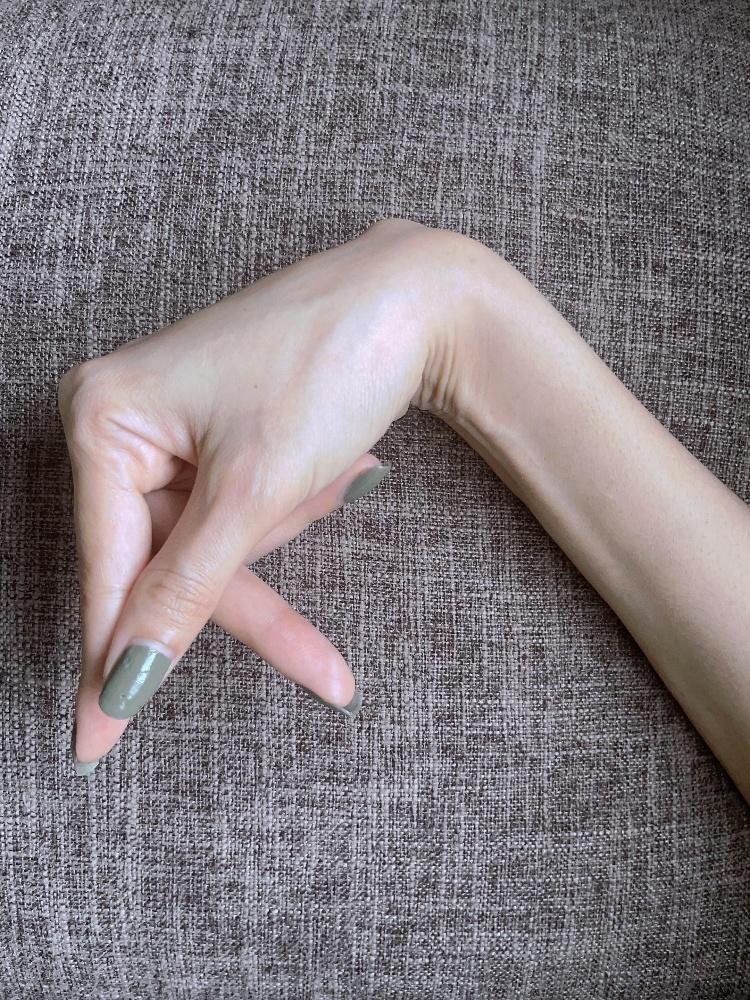p: (61, 211, 463, 774)
